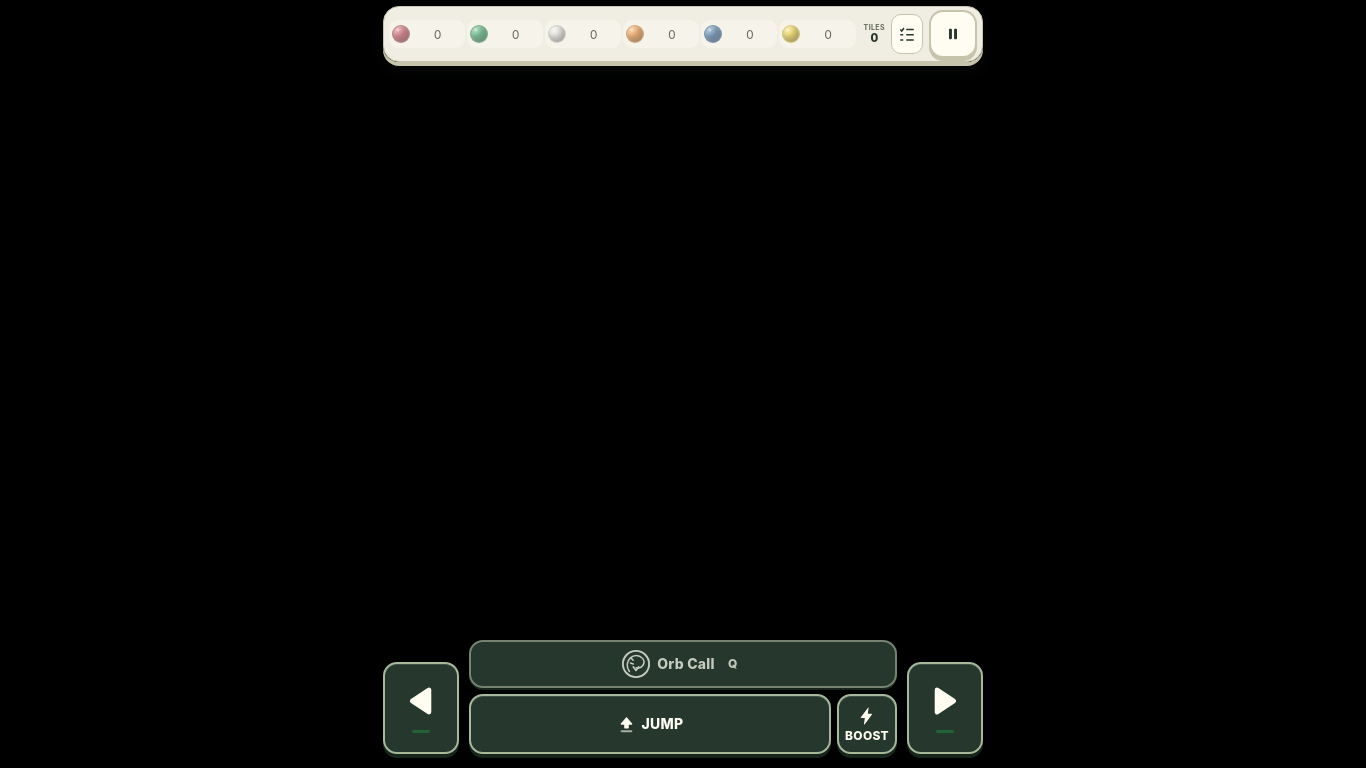
Test: keeps the pause card to Resume, four keys, one row of numbers and the objective
The image size is (1366, 768).
Click the button named "Pause" at (953,34), box [929,10,977,58]
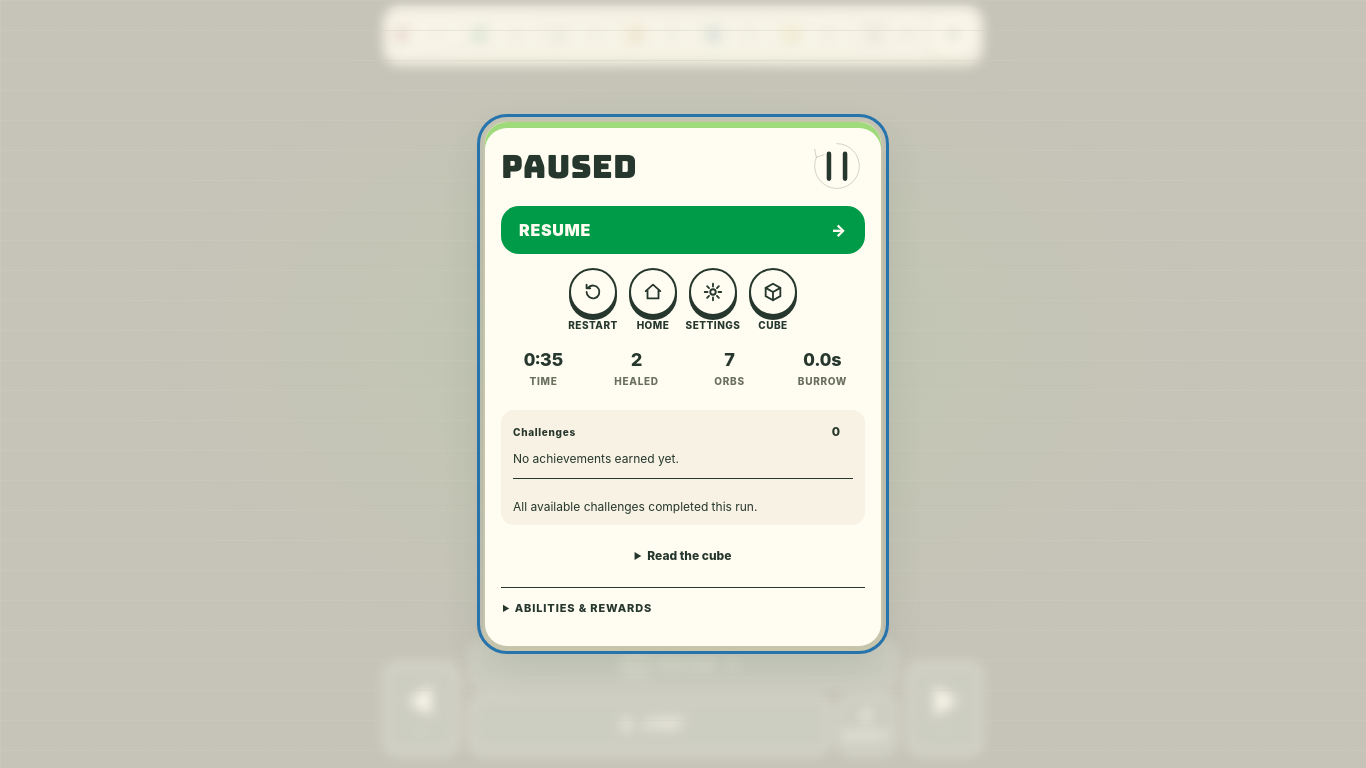
Expected: the button with class "worm-pause-resume" is shown, [501,206,865,254]
Expected: the dialog with class "worm-pause-card" shows "Orbs", [714,375,745,387]
